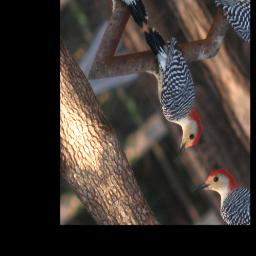Woodpecker: (115, 17, 223, 165)
